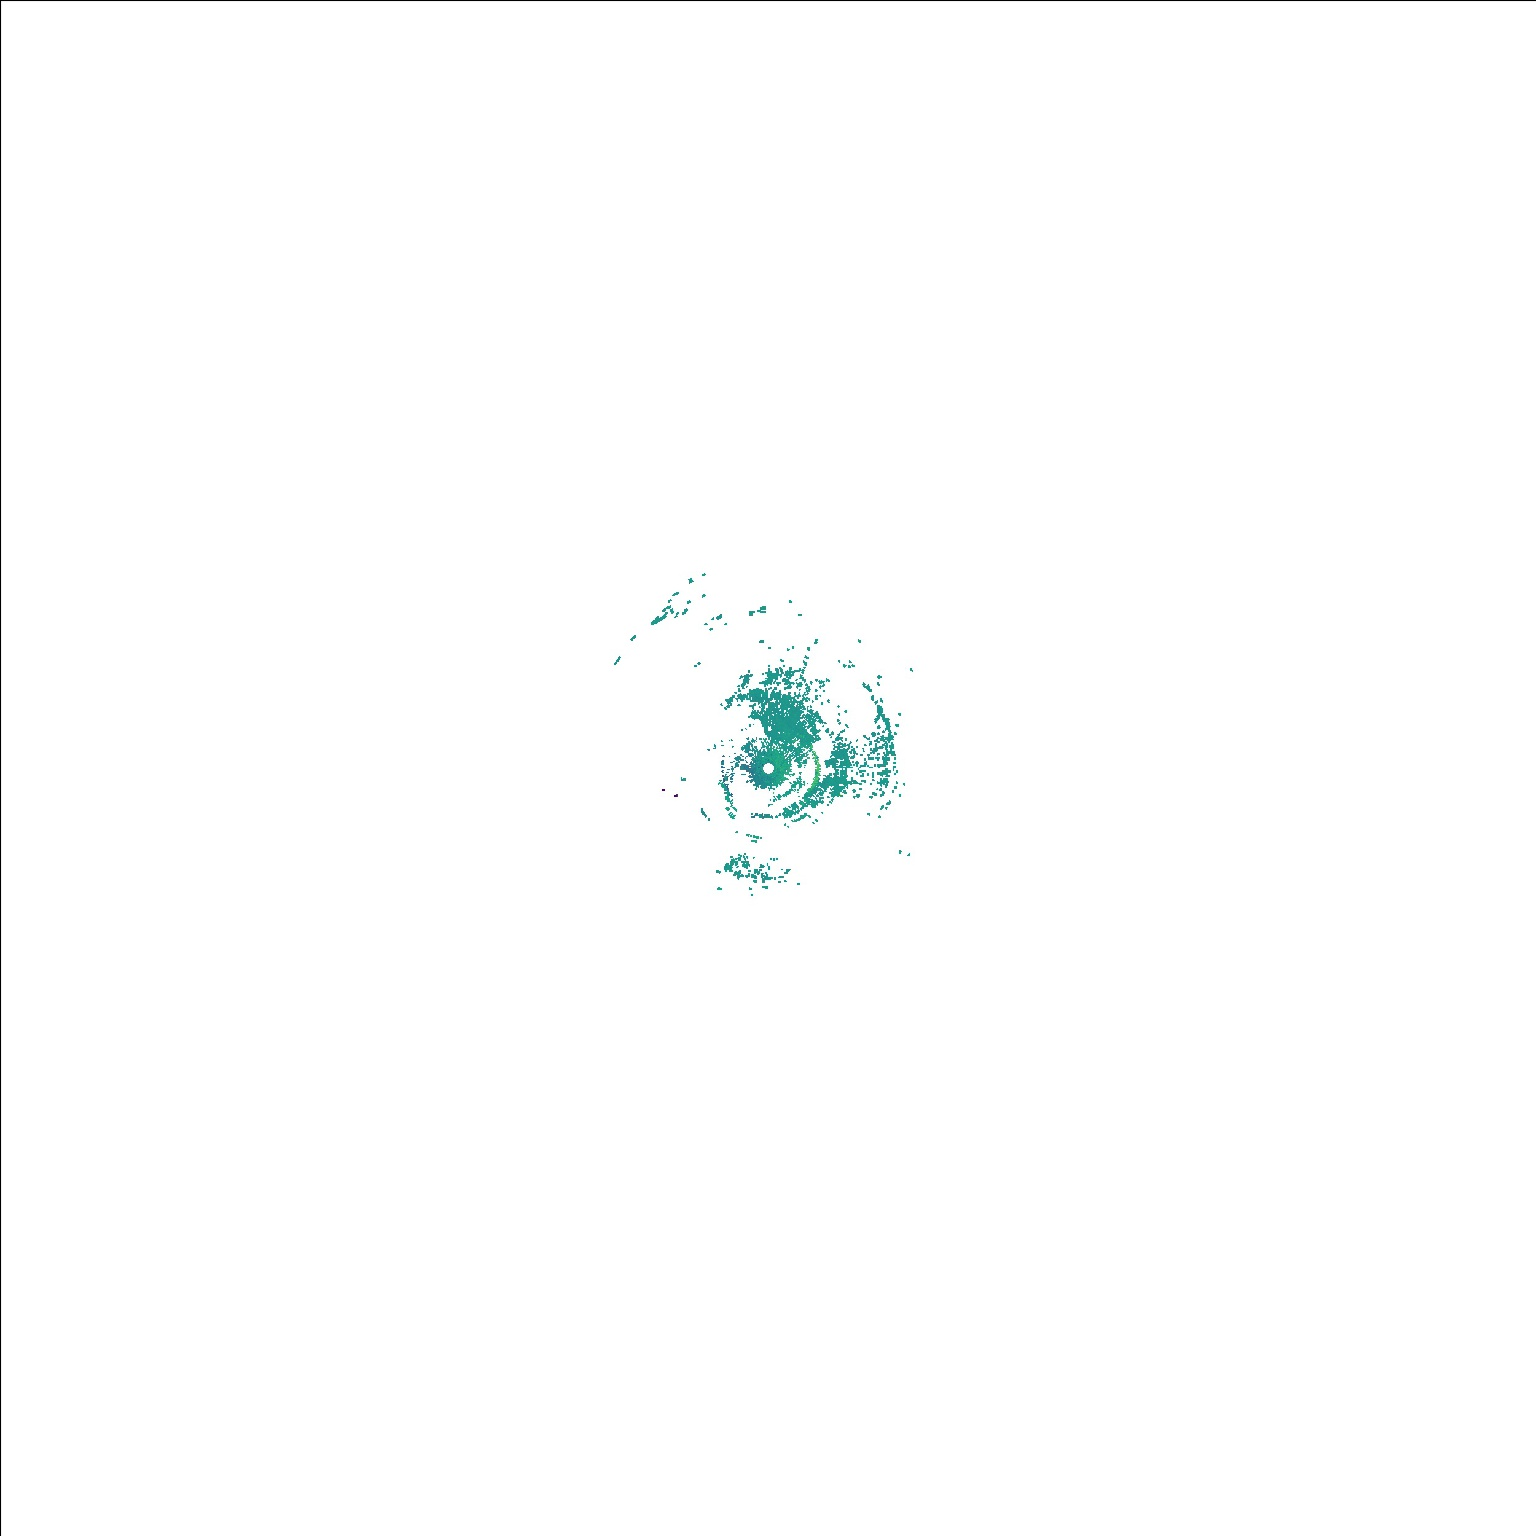fall: (660, 786, 682, 800)
